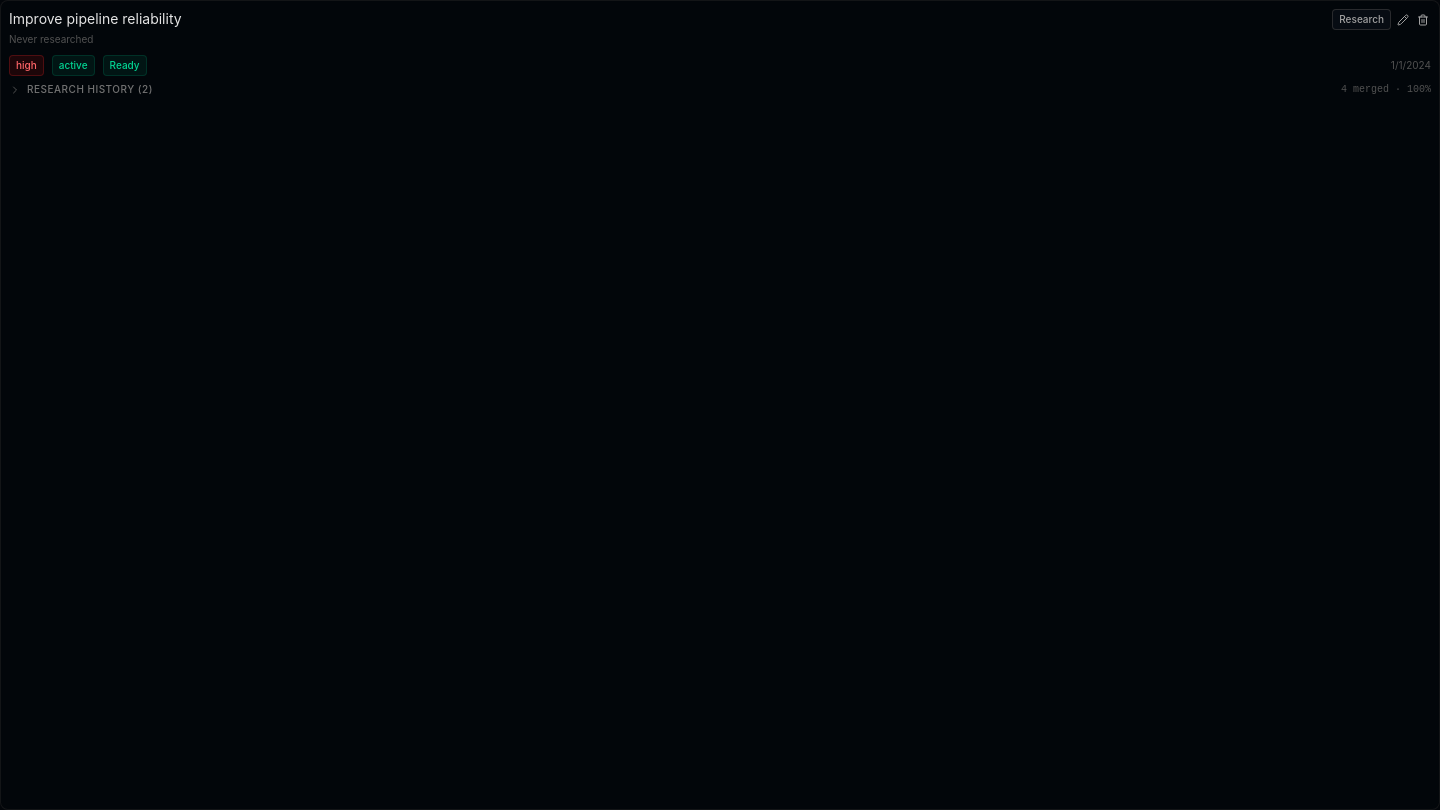
Test: DirectionCard per-cycle delta badge › shows neutral "0 vs prior" badge when latest cycle matches prior
Click the button "Research History (2) 4 merged · 100%" at [85, 89], box [9, 82, 1431, 97]
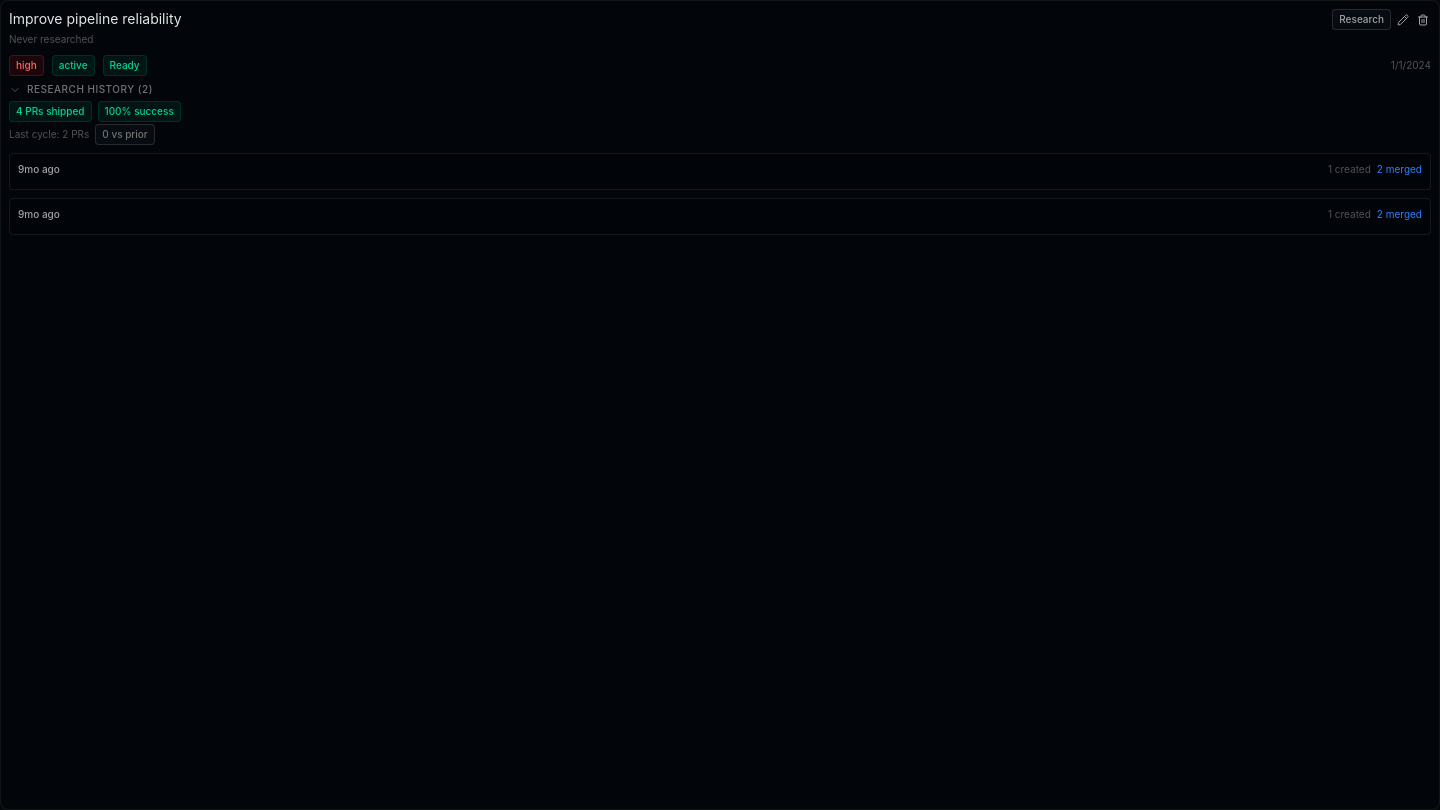
Expected: the text "0 vs prior" is shown, [95, 124, 155, 145]
